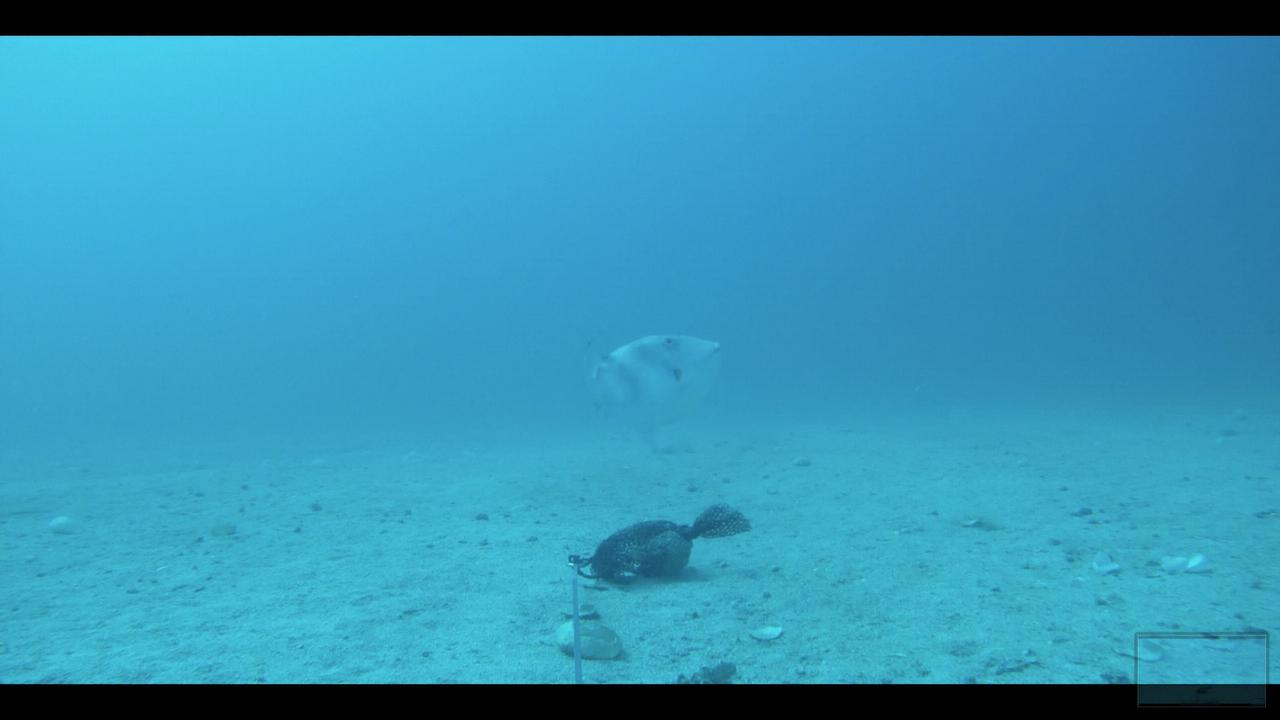balistes: (568, 322, 726, 459)
